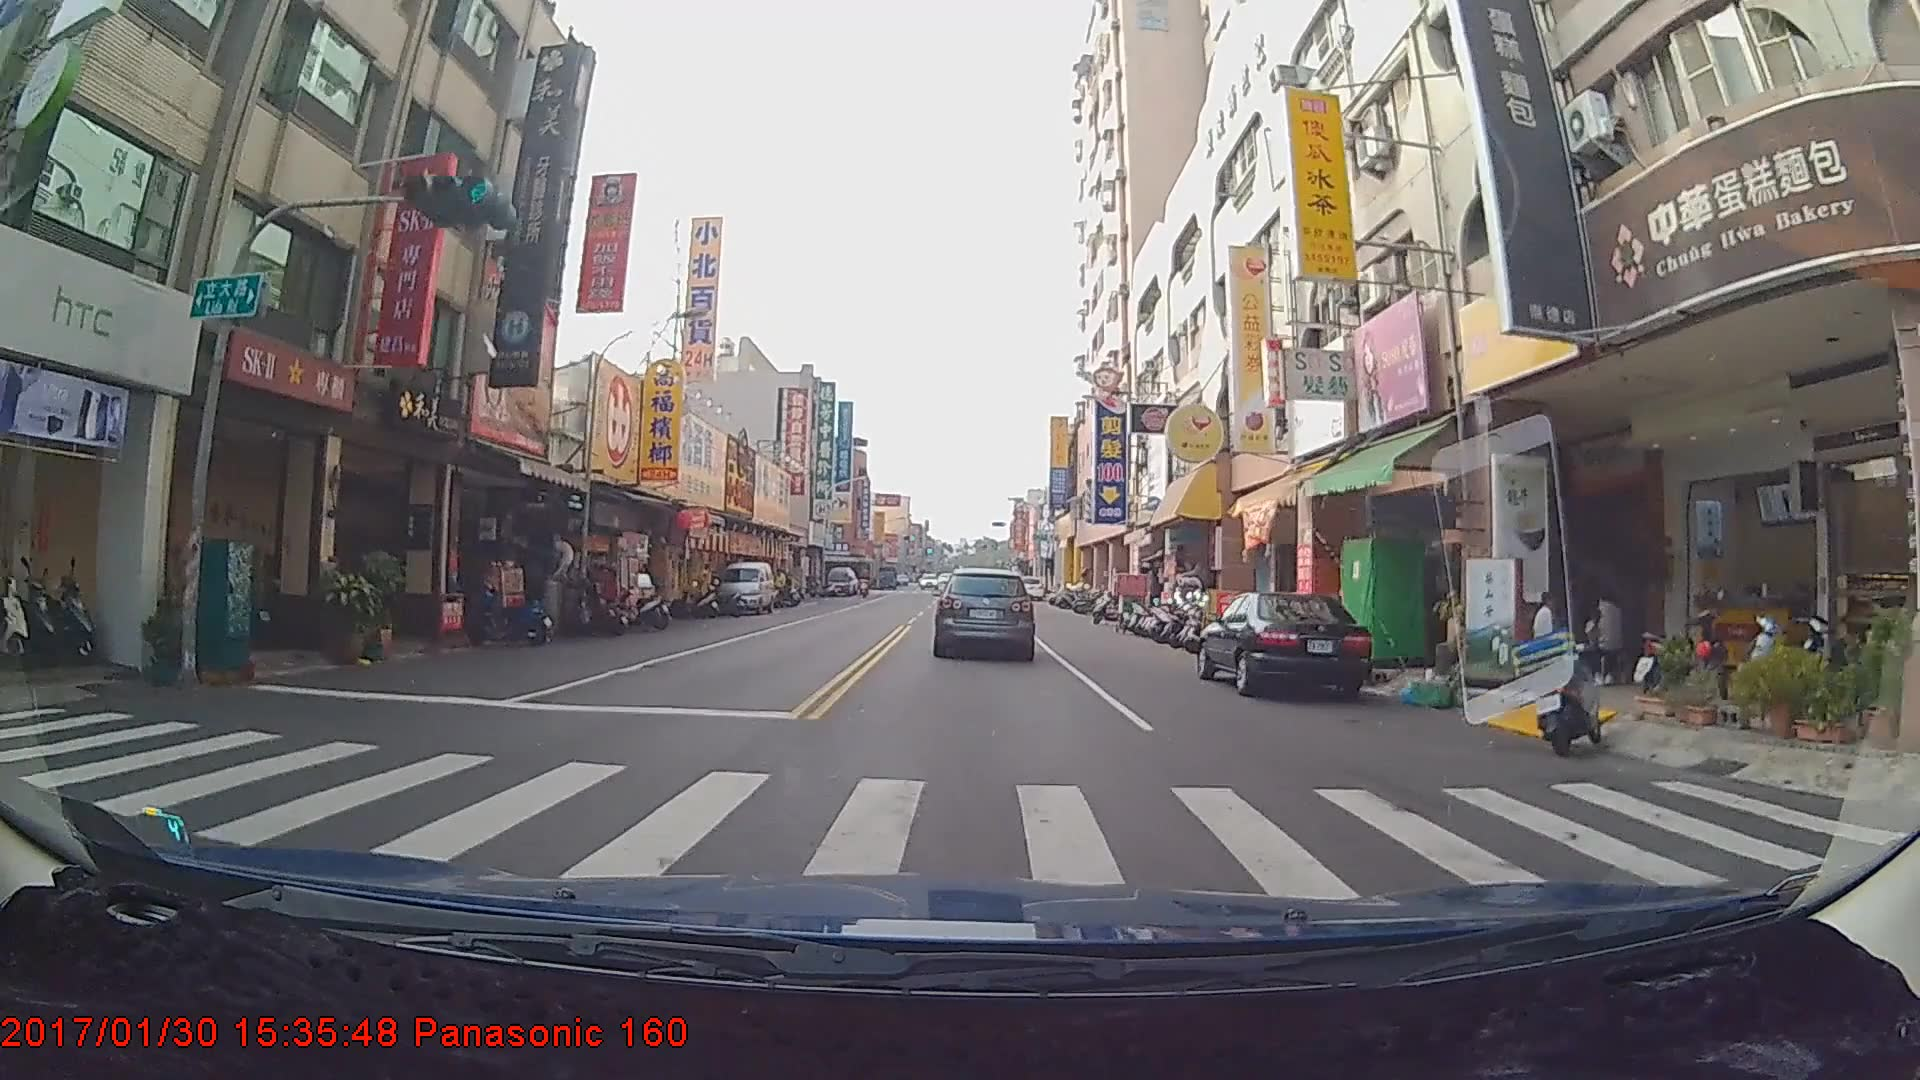pedestrian: (1585, 584, 1625, 686), (1529, 585, 1569, 682)
vehicle: (1200, 589, 1371, 696), (934, 568, 1034, 659), (717, 559, 774, 614), (825, 558, 859, 590), (1012, 578, 1041, 604)
